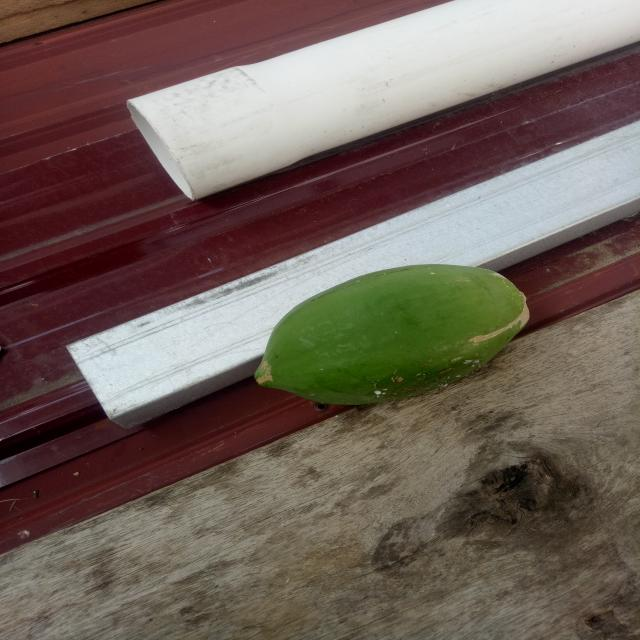Pepaya unrippen: (252, 258, 538, 408)
